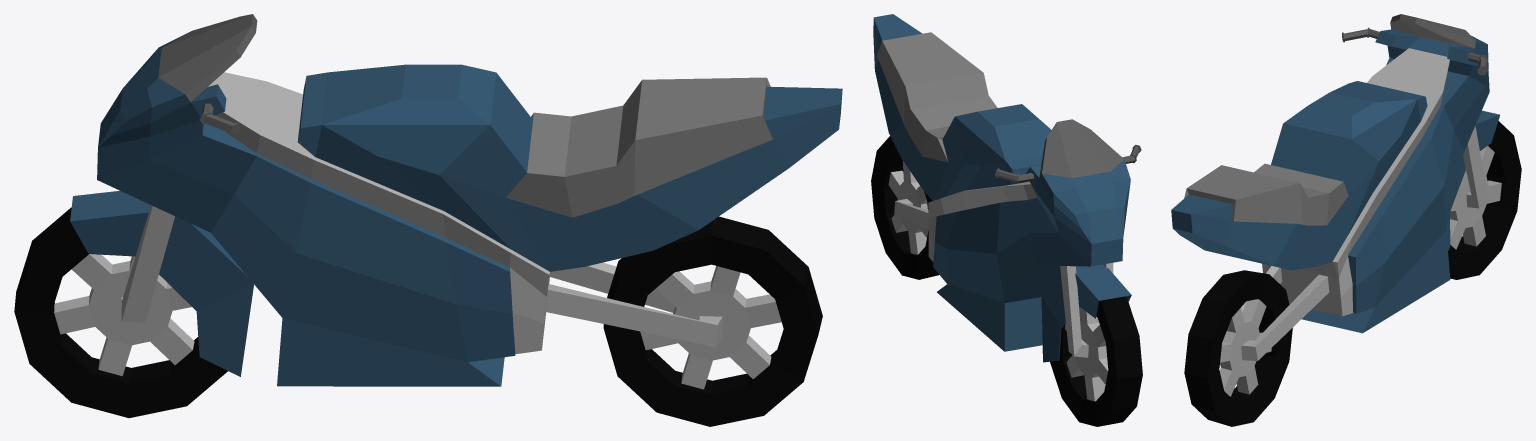
File: Motorcycle Blue.fbx
3 renders of one model, left to right at view 1: azimuth 30°, elevation 25°; view 2: azimuth 150°, elevation 25°; view 3: azimuth 270°, elevation 25°, orthographic. The views are drawn at different scales.
Parts seen in each view (by area): view 1: Motorcycle Blue; view 2: Motorcycle Blue; view 3: Motorcycle Blue.
Part boxes in pixels (x1,y1,x2,y2): Motorcycle Blue: (14,14,842,426); Motorcycle Blue: (871,14,1142,426); Motorcycle Blue: (1171,14,1521,426).
Bounding box in the file's own units: 253 × 175 × 157.
